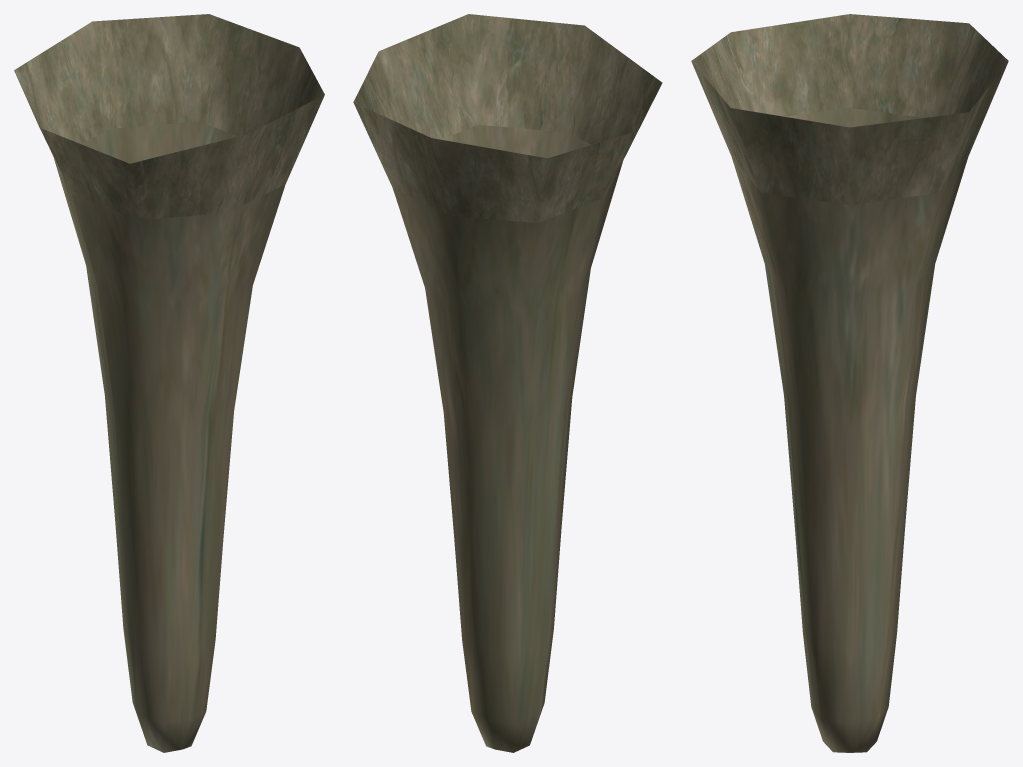
The model's file is OVERHILL_A_01_STLAG_102.fbx.
The picture shows the model from 3 angles, left to right: view 1: azimuth 30°, elevation 25°; view 2: azimuth 150°, elevation 25°; view 3: azimuth 270°, elevation 25°; orthographic projection. The views are drawn at different scales.
Parts seen in each view (by area): view 1: OVERHILL_A_01_STLAG_102; view 2: OVERHILL_A_01_STLAG_102; view 3: OVERHILL_A_01_STLAG_102.
Part boxes in pixels (left/top/right/bottom): OVERHILL_A_01_STLAG_102: left=14, top=14, right=324, bottom=752; OVERHILL_A_01_STLAG_102: left=353, top=14, right=662, bottom=752; OVERHILL_A_01_STLAG_102: left=691, top=14, right=1008, bottom=752.
Bounding box in the file's own units: 38089 × 94411 × 39163.
Materials: 1 (1 with a texture image).
